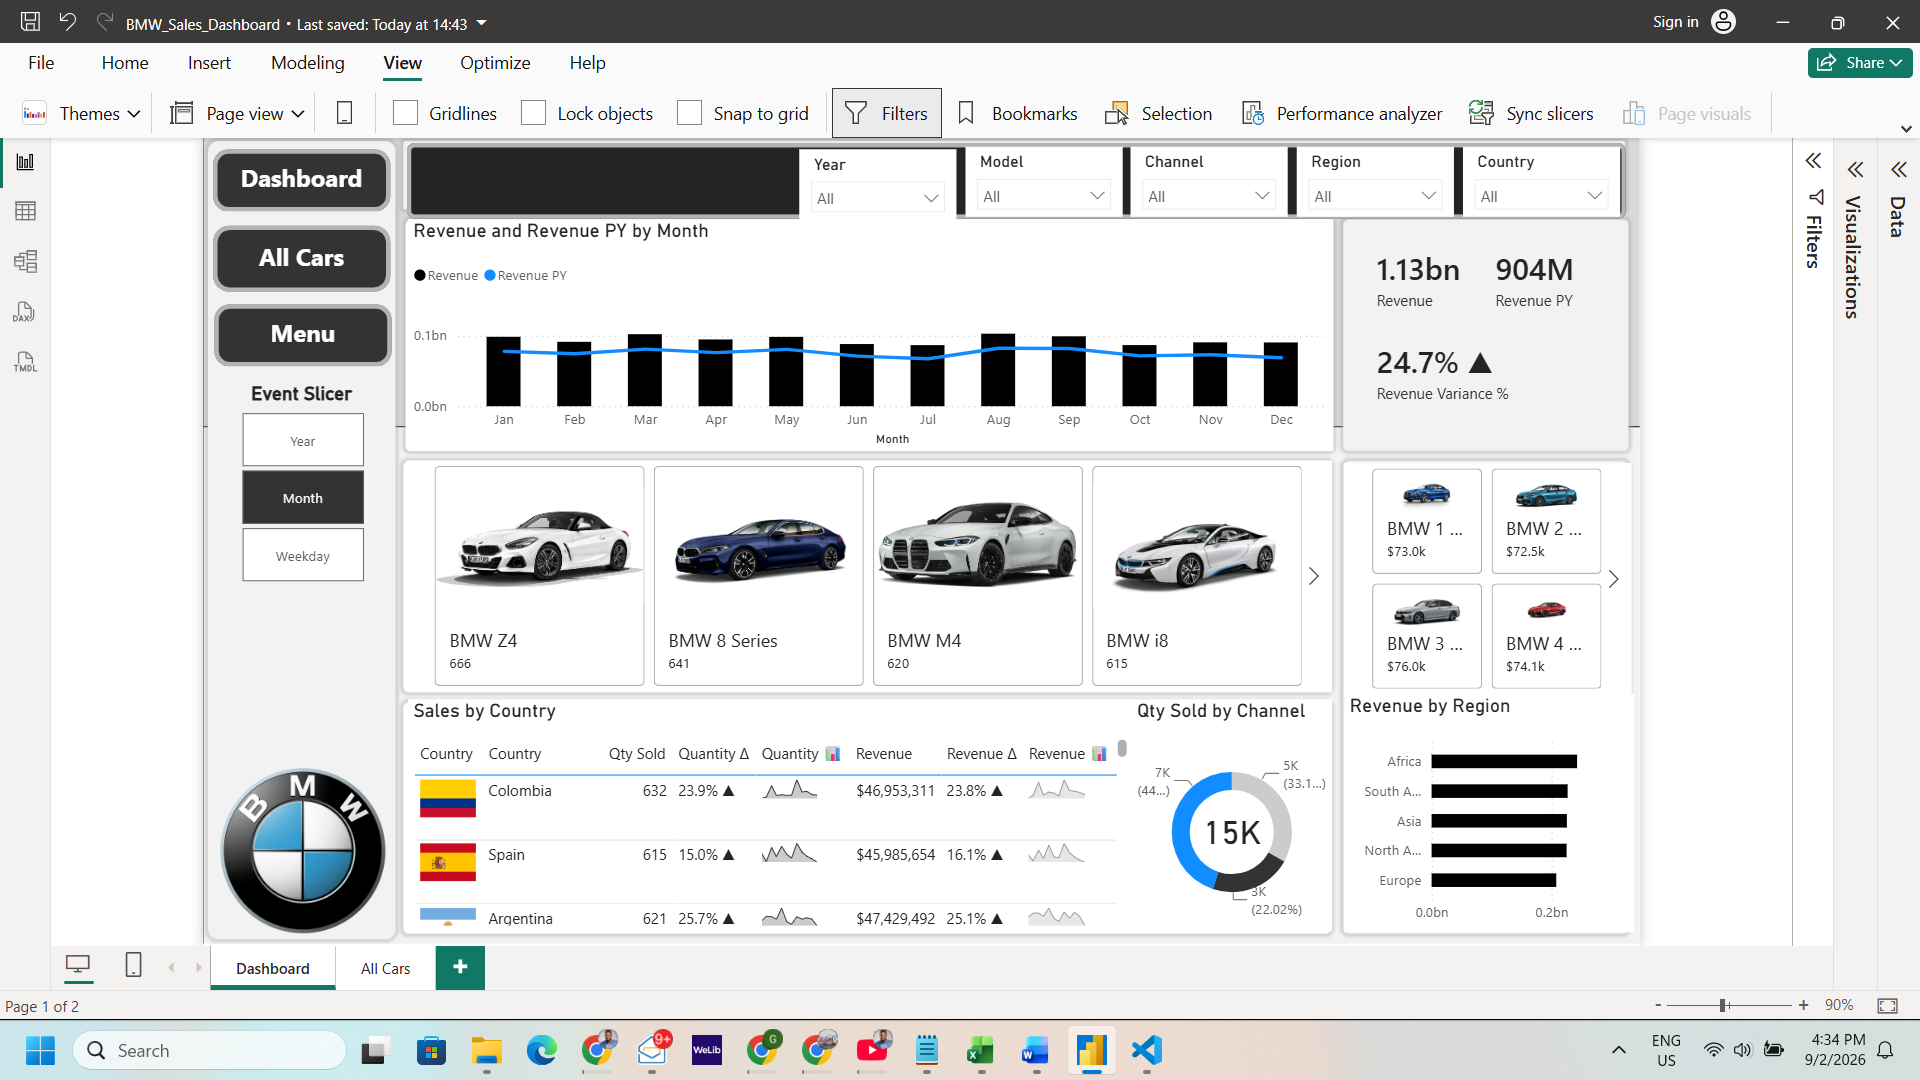

Layout of this report page (visuals, bound fields, positions):
{"tool":"powerbi","page":{"name":"Dashboard","canvas":[1280,720],"ordinal":0},"visuals":[{"type":"lineStackedColumnComboChart","fields":{"Category":["Dim_Date.Year"],"Y":["All Measures.Revenue"],"Y2":["All Measures.Revenue PY"]},"box":[182.2,72.4,824,206.3],"z":0},{"type":"shape","box":[9.7,148.4,158,55.5],"z":0,"group":"g1"},{"type":"textbox","box":[19.4,154.4,137.5,43.4],"z":1000,"group":"g1"},{"type":"slicer","title":"Event Slicer","fields":{"Values":["Event Slicer.Event Slicer"]},"box":[8.4,217.2,158,184.6],"z":1000},{"type":"cardVisual","fields":{"Data":["All Measures.Revenue"]},"box":[1015.8,73.6,156.8,103.8],"z":2000},{"type":"cardVisual","fields":{"Data":["All Measures.Revenue PY"]},"box":[1122,72.4,158,106.2],"z":3000},{"type":"cardVisual","fields":{"Data":["All Measures.Revenue Variance %"]},"box":[1015.8,154.4,183.4,106.2],"z":4000},{"type":"tableEx","title":"Sales by Country","fields":{"Values":["DimCountry.Countries with Flags URL.Flag","DimCountry.Country","All Measures.Qty Sold","All Measures.Qty Sold Variance %","All Measures.Qty-Sold_Spakline","All Measures.Revenue","All Measures.Revenue Variance %","All Measures.Revenue Sparkline"]},"box":[182.2,499.5,645.4,206.3],"z":5000},{"type":"donutChart","fields":{"Y":["All Measures.Qty Sold"],"Series":["DimChannel.Channel"]},"box":[827.6,499.5,178.6,206.3],"z":6000},{"type":"clusteredBarChart","fields":{"Category":["DimCountry.Region"],"Y":["All Measures.Revenue"]},"box":[1015.8,495.8,258.2,212.3],"z":7000},{"type":"image","box":[8.4,561,159.3,147.2],"z":8000},{"type":"shape","box":[8.7,9.9,158,55.5],"z":9000},{"type":"advancedSlicerVisual","fields":{"Values":["DimModel.Model"]},"box":[1012.2,278.7,267.8,216],"z":10000},{"type":"shape","box":[8.7,77.4,158,59.1],"z":11000},{"type":"advancedSlicerVisual","fields":{"Values":["DimModel.Model"]},"box":[181,287.1,824,206.3],"z":12000},{"type":"textbox","box":[19,85.7,137.5,42.2],"z":13000},{"type":"textbox","box":[19,15.7,137.5,43.4],"z":14000},{"type":"actionButton","box":[8.4,80.8,158,55.5],"z":15000},{"type":"group","id":"g1","title":"Group 1","box":[9.7,148.4,158,55.5],"z":16000},{"type":"shape","box":[181,4.8,1085.8,67.6],"z":17000},{"type":"slicer","fields":{"Values":["Dim_Date.Year"]},"box":[530.8,9.7,139.9,62.7],"z":18000},{"type":"slicer","fields":{"Values":["DimModel.Model"]},"box":[678.6,8,139.9,62.7],"z":19000},{"type":"slicer","fields":{"Values":["DimChannel.Channel"]},"box":[826.4,8,139.9,62.7],"z":20000},{"type":"slicer","fields":{"Values":["DimCountry.Country"]},"box":[1122,8,139.9,62.7],"z":21000},{"type":"slicer","fields":{"Values":["DimCountry.Region"]},"box":[974.2,8,139.9,62.7],"z":22000},{"type":"cardVisual","box":[8,402,158,150],"z":22001}]}

Visuals, with their boxes on the page's 1280x720 design canvas (x1, y1, x2, y2). These are canvas units, not pixel positions in the 1920x1080 screenshot, which may show the page scaled, cropped or inside an application window:
lineStackedColumnComboChart - Dim_Date.Year x All Measures.Revenue: (182, 72, 1006, 279)
shape: (10, 148, 168, 204)
textbox: (19, 154, 157, 198)
"Event Slicer" slicer: (8, 217, 166, 402)
cardVisual - All Measures.Revenue: (1016, 74, 1173, 177)
cardVisual - All Measures.Revenue PY: (1122, 72, 1280, 179)
cardVisual - All Measures.Revenue Variance %: (1016, 154, 1199, 261)
"Sales by Country" tableEx: (182, 500, 828, 706)
donutChart - All Measures.Qty Sold x DimChannel.Channel: (828, 500, 1006, 706)
clusteredBarChart - DimCountry.Region x All Measures.Revenue: (1016, 496, 1274, 708)
image: (8, 561, 168, 708)
shape: (9, 10, 167, 65)
advancedSlicerVisual - DimModel.Model: (1012, 279, 1280, 495)
shape: (9, 77, 167, 136)
advancedSlicerVisual - DimModel.Model: (181, 287, 1005, 493)
textbox: (19, 86, 156, 128)
textbox: (19, 16, 156, 59)
actionButton: (8, 81, 166, 136)
"Group 1" group: (10, 148, 168, 204)
shape: (181, 5, 1267, 72)
slicer - Dim_Date.Year: (531, 10, 671, 72)
slicer - DimModel.Model: (679, 8, 818, 71)
slicer - DimChannel.Channel: (826, 8, 966, 71)
slicer - DimCountry.Country: (1122, 8, 1262, 71)
slicer - DimCountry.Region: (974, 8, 1114, 71)
cardVisual: (8, 402, 166, 552)
